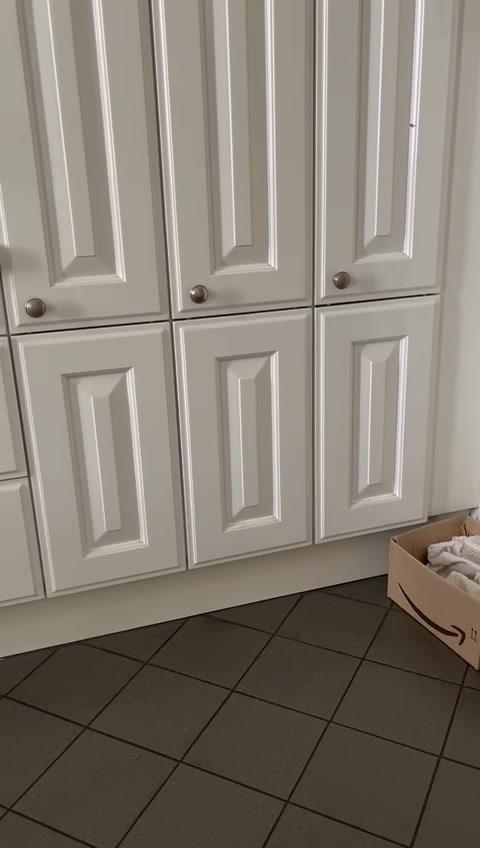handle: (23, 293, 46, 322), (186, 280, 205, 309), (334, 264, 350, 294)
